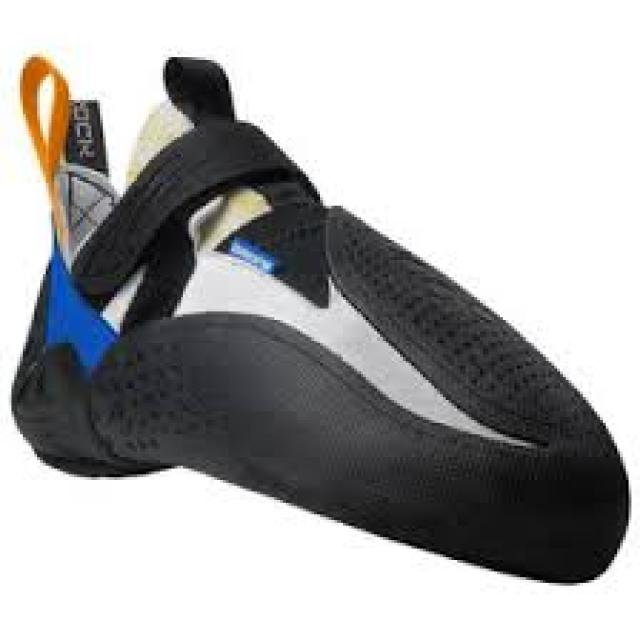climbing-shoes: (13, 56, 633, 584)
